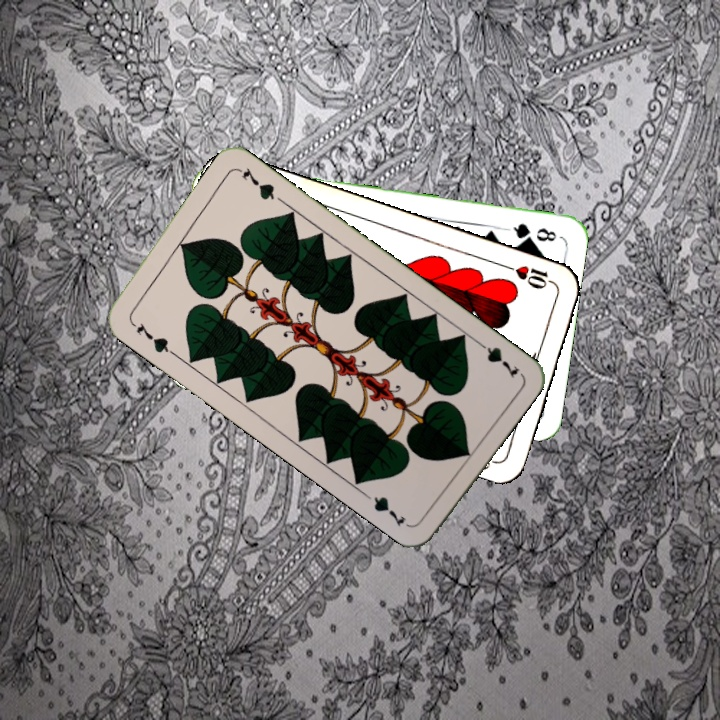G7: (471, 336, 522, 381), (126, 316, 177, 358)
G8: (509, 218, 559, 244)
H10: (500, 261, 558, 292)
